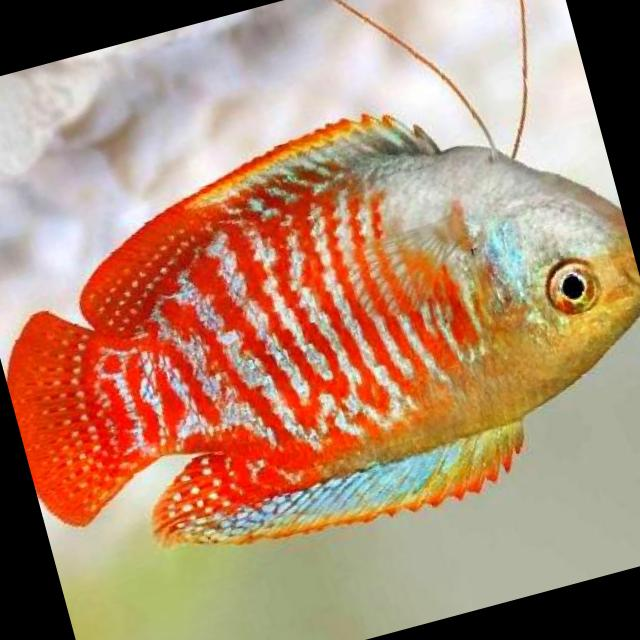Gourami: (0, 44, 640, 603)
